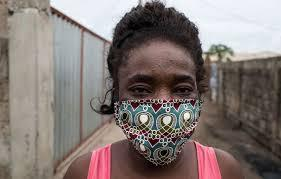Wearing Mask: (109, 53, 207, 171)
